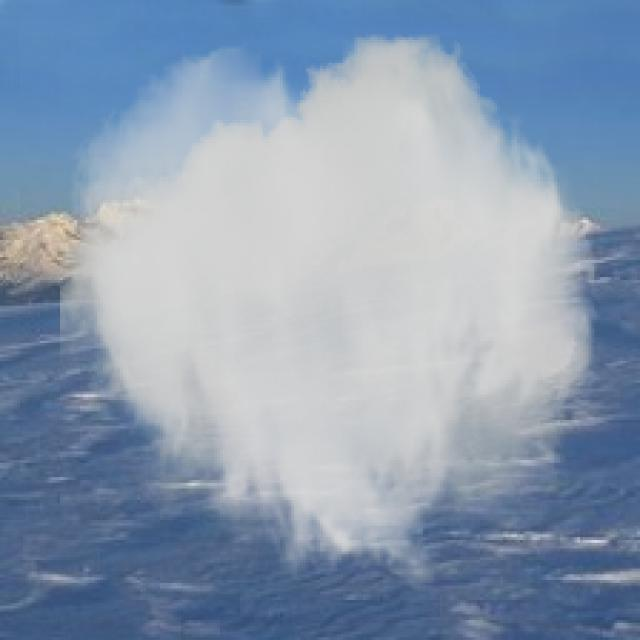Smoke: (60, 34, 603, 594)
